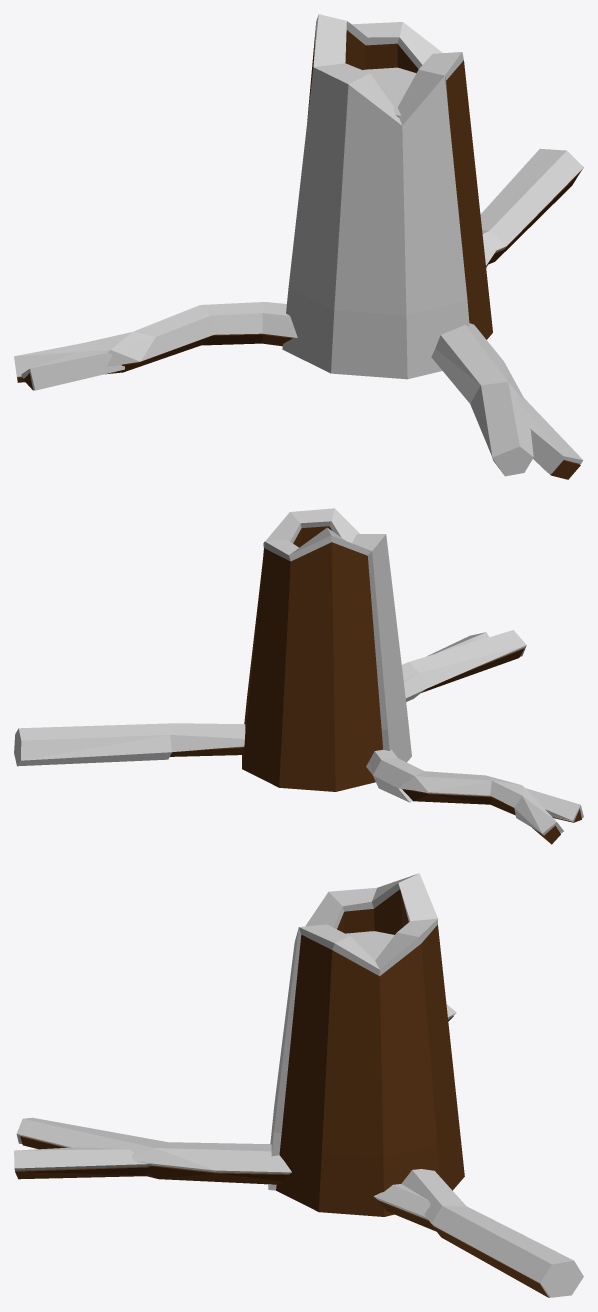
Rendered from Tree_12.fbx.
The picture shows the model from 3 angles, top to bottom: view 1: azimuth 30°, elevation 25°; view 2: azimuth 150°, elevation 25°; view 3: azimuth 270°, elevation 25°; orthographic projection. The views are drawn at different scales.
Visible parts, largest first — view 1: Tree_12; view 2: Tree_12; view 3: Tree_12.
Part boxes in pixels (x1=…): Tree_12: x1=14, y1=14, x2=583, y2=479; Tree_12: x1=14, y1=508, x2=583, y2=844; Tree_12: x1=14, y1=873, x2=583, y2=1297.
Size of the model in its own units: 242 by 116 by 205.
